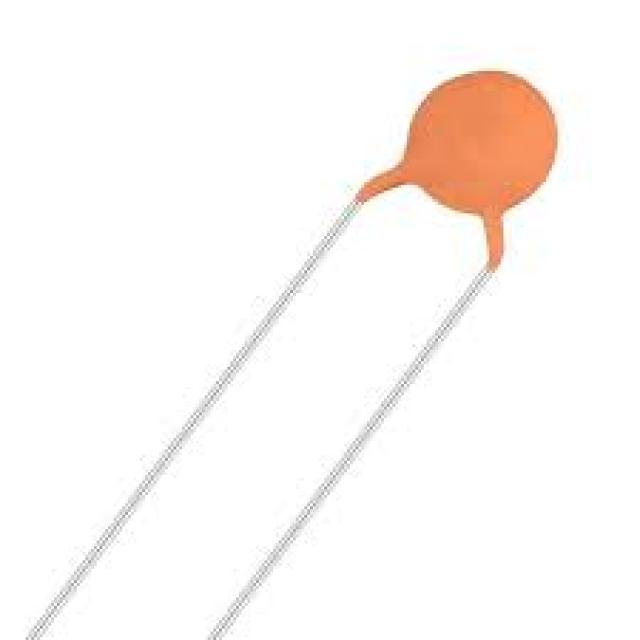Capacitor: (26, 71, 560, 640)
